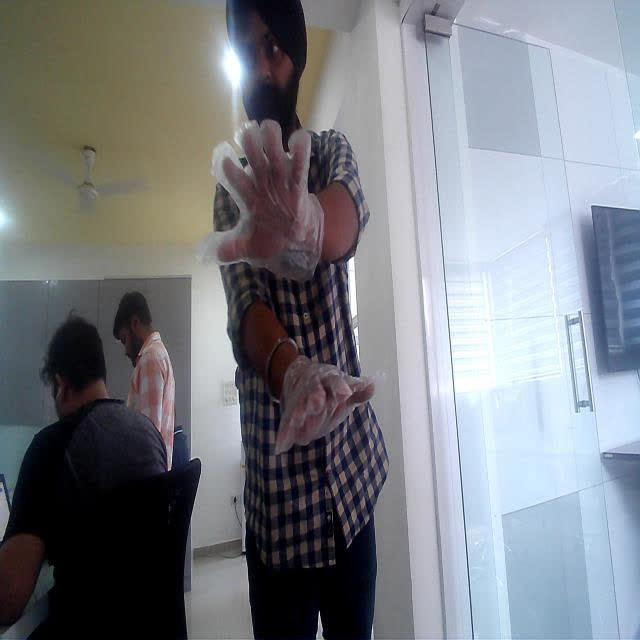with_gloves: (203, 96, 341, 293), (249, 342, 403, 451)
